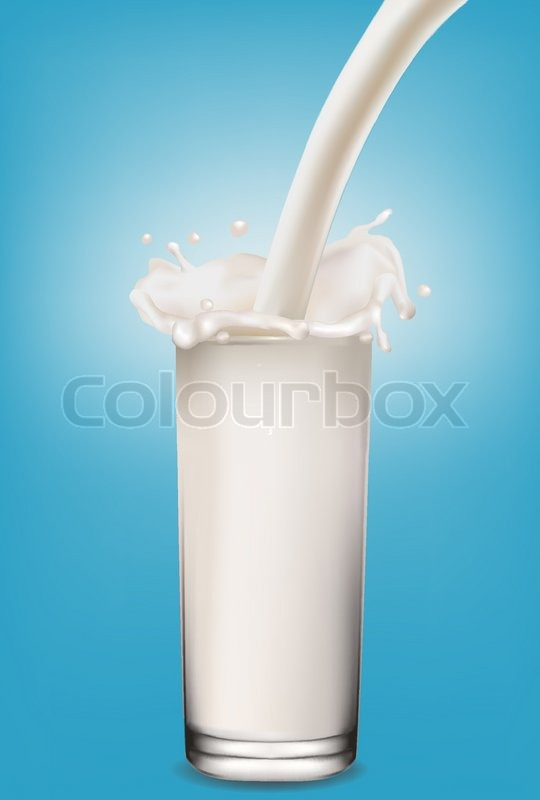glass of milk: (168, 300, 385, 784)
